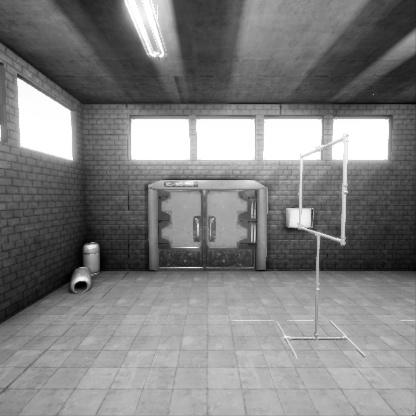gate: (298, 176, 349, 286)
